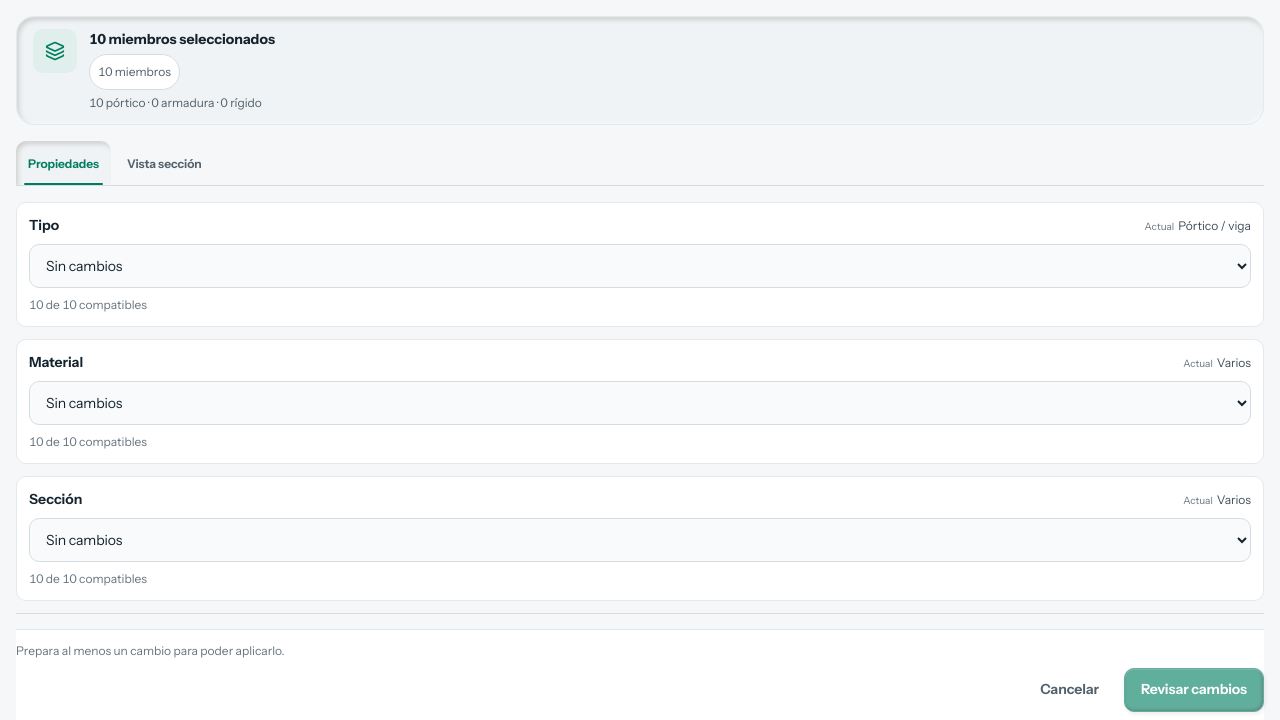
Test: BulkEditPanel › clears every staged change on Cancel
Select "W12x53" in the dropdown labelled "Sección" at (640, 540), box left=29, top=518, right=1251, bottom=562
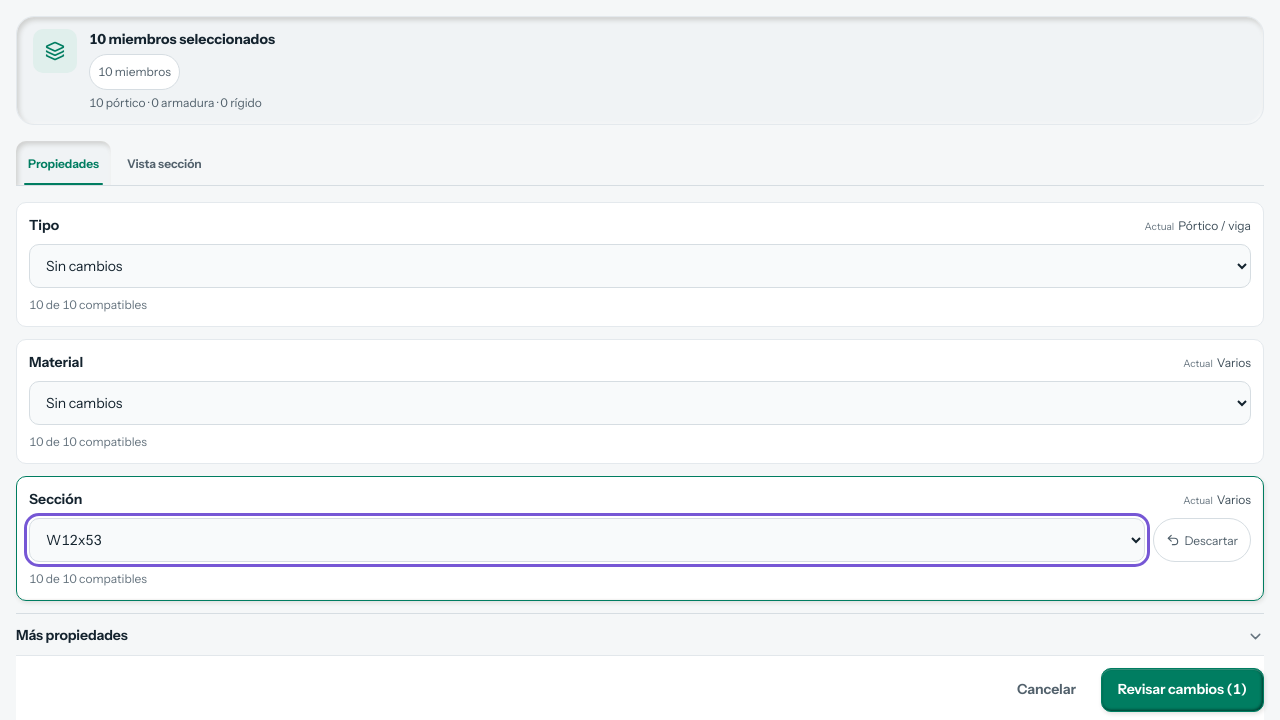
Click the button "Cancelar" at (1046, 690), box left=1000, top=668, right=1093, bottom=712
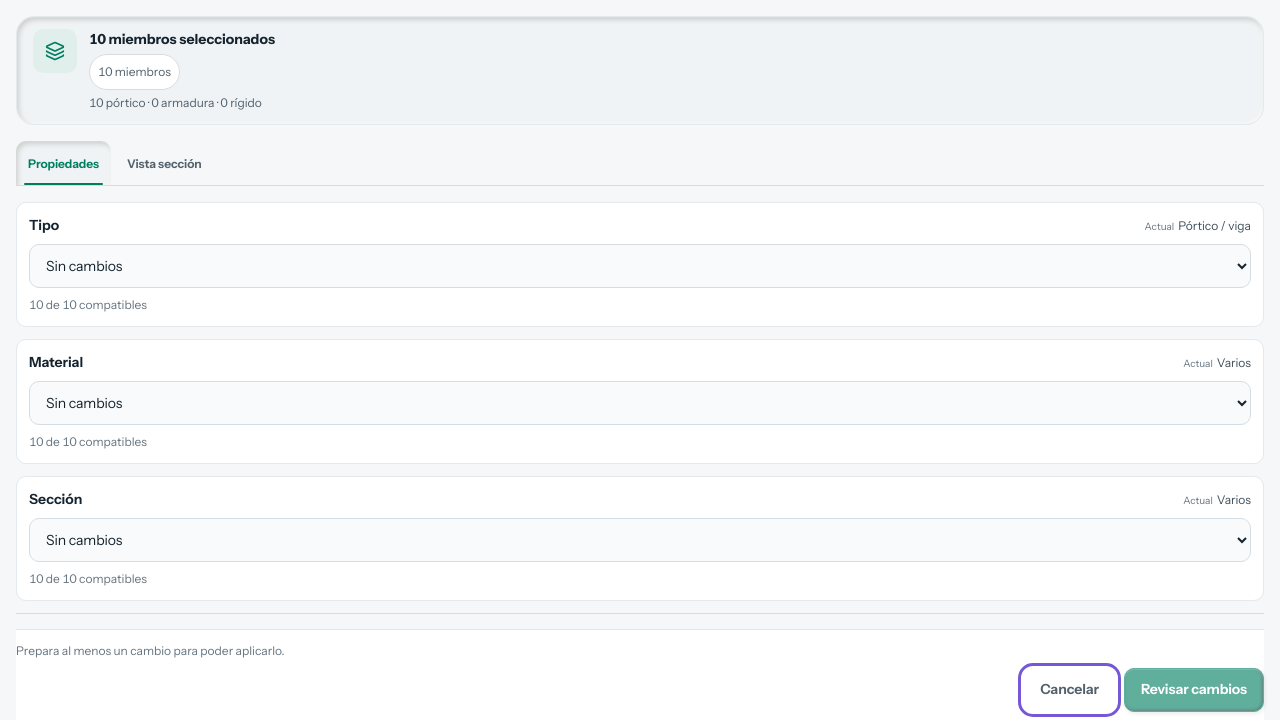
Expected: the button "Revisar cambios" is disabled, left=1124, top=668, right=1264, bottom=712
